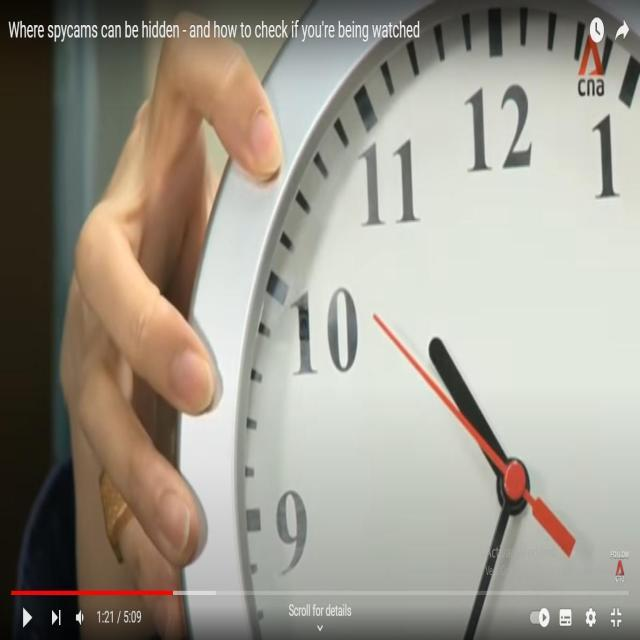hidden camera: (296, 307, 312, 345)
